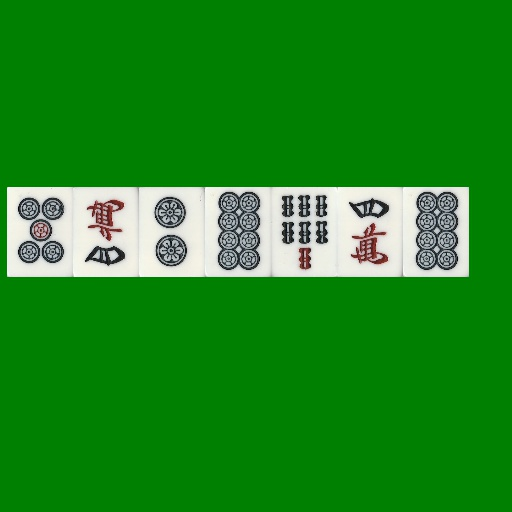2p: (139, 187, 205, 277)
4m: (73, 187, 139, 277), (337, 187, 403, 277)
5p: (7, 187, 73, 277)
7s: (271, 187, 337, 277)
8p: (205, 187, 271, 277), (403, 187, 469, 277)
